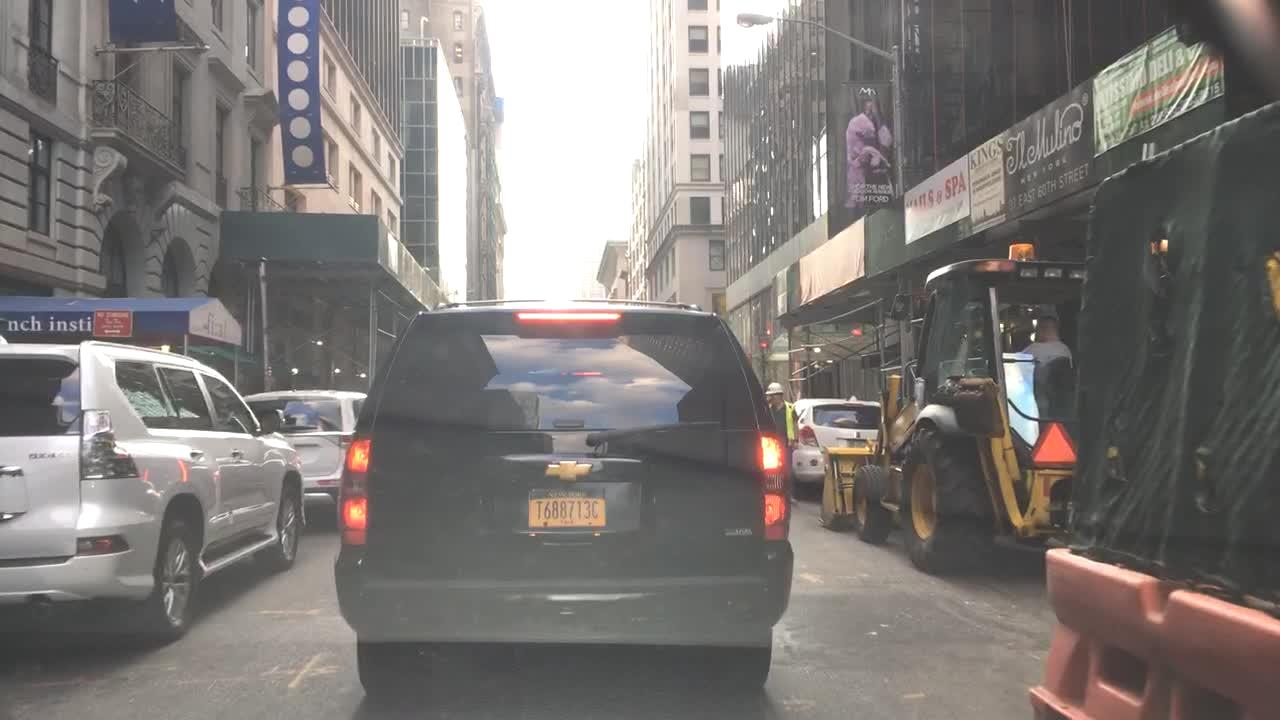chevrolet: (538, 449, 604, 484)
